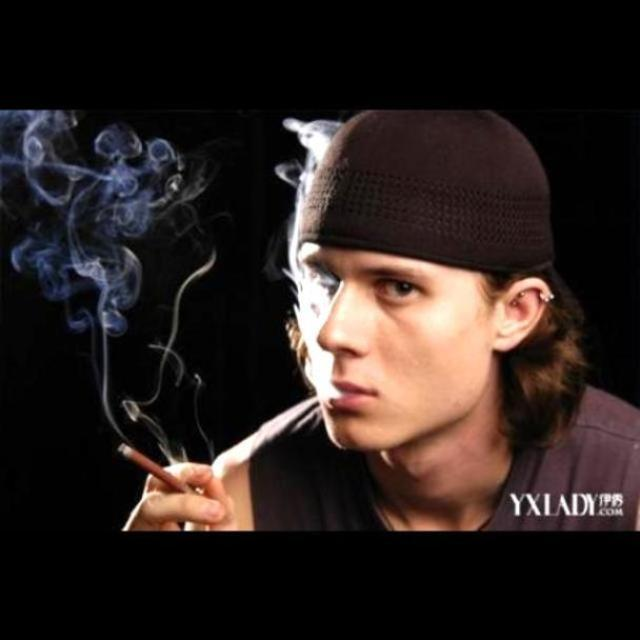rokok: (116, 436, 192, 496)
